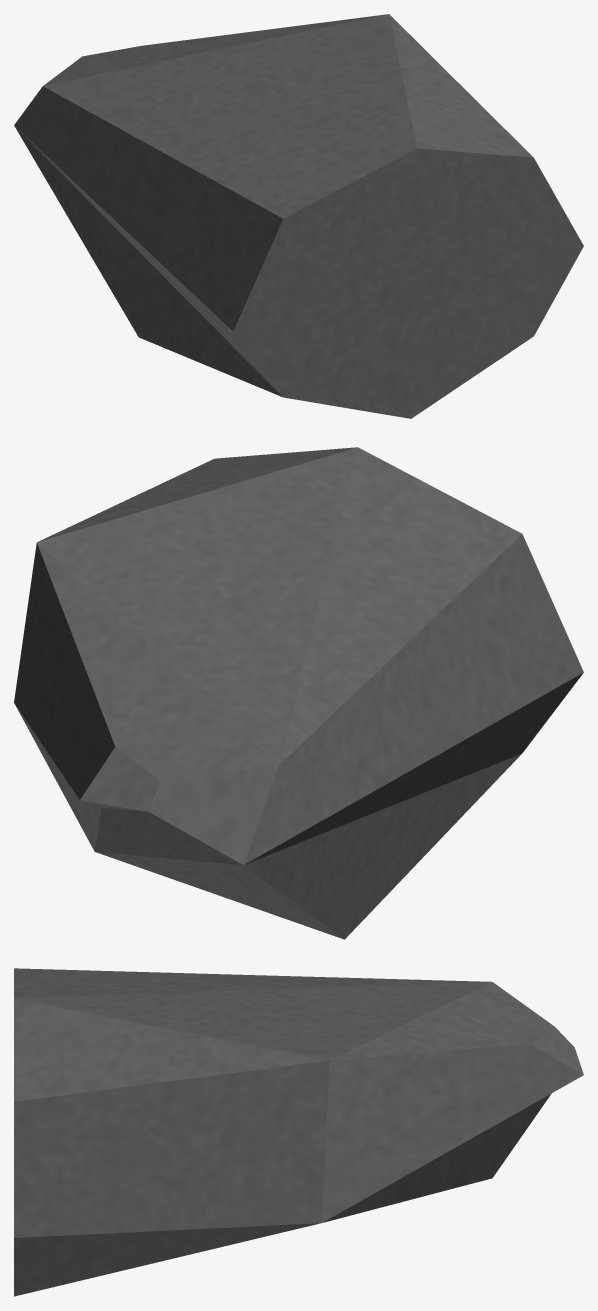
The model's file is all_share_rock_6.FBX.
3 views of the same model, one above another, from view 1: azimuth 30°, elevation 25°; view 2: azimuth 150°, elevation 25°; view 3: azimuth 270°, elevation 25° (orthographic). The views are drawn at different scales.
Visible parts, largest first — view 1: winter_cube_1.001; view 2: winter_cube_1.001; view 3: winter_cube_1.001.
Part boxes in pixels (bbox=[...]): winter_cube_1.001: bbox=[14, 14, 583, 418]; winter_cube_1.001: bbox=[14, 447, 583, 939]; winter_cube_1.001: bbox=[14, 968, 583, 1296].
Size of the model in its own units: 313 by 229 by 404.
